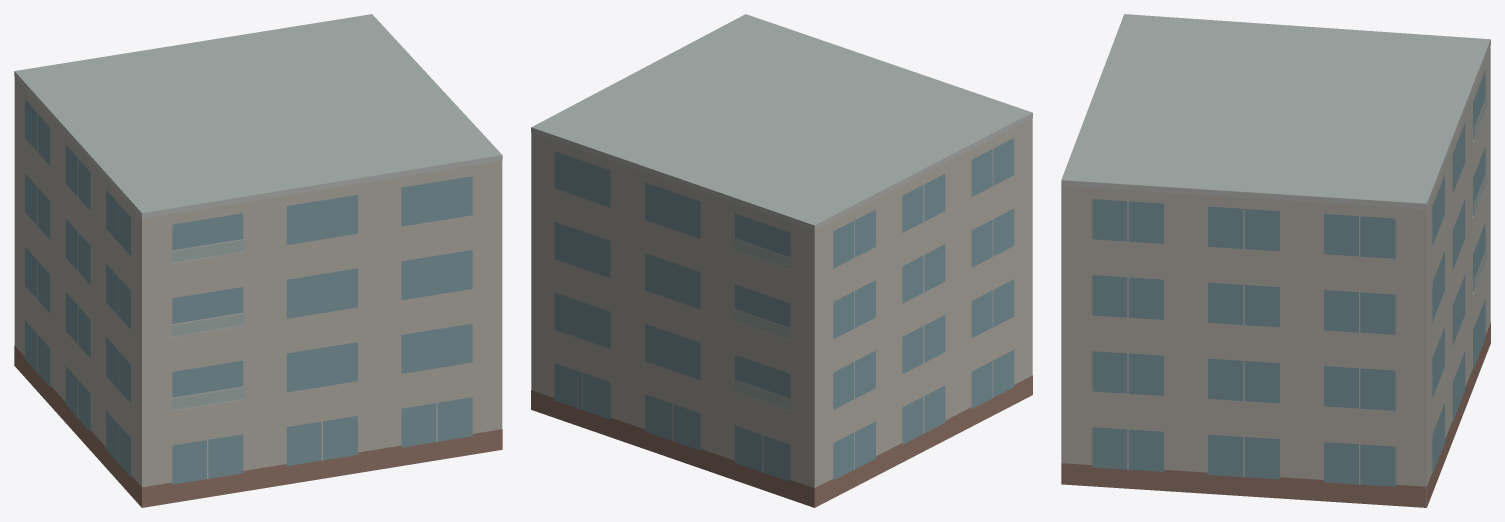
Rendered from survey-upis-32741751.glb.
3 renders of one model, left to right at view 1: azimuth 30°, elevation 25°; view 2: azimuth 150°, elevation 25°; view 3: azimuth 270°, elevation 25°, orthographic. The views are drawn at different scales.
Parts seen in each view (by area): view 1: survey-upis-32741751.tmp; view 2: survey-upis-32741751.tmp; view 3: survey-upis-32741751.tmp.
Part boxes in pixels (x1=…): survey-upis-32741751.tmp: x1=14, y1=14, x2=502, y2=507; survey-upis-32741751.tmp: x1=531, y1=14, x2=1032, y2=507; survey-upis-32741751.tmp: x1=1061, y1=14, x2=1490, y2=507.
Bounding box in the file's own units: 17.2 × 12.85 × 16.46.
